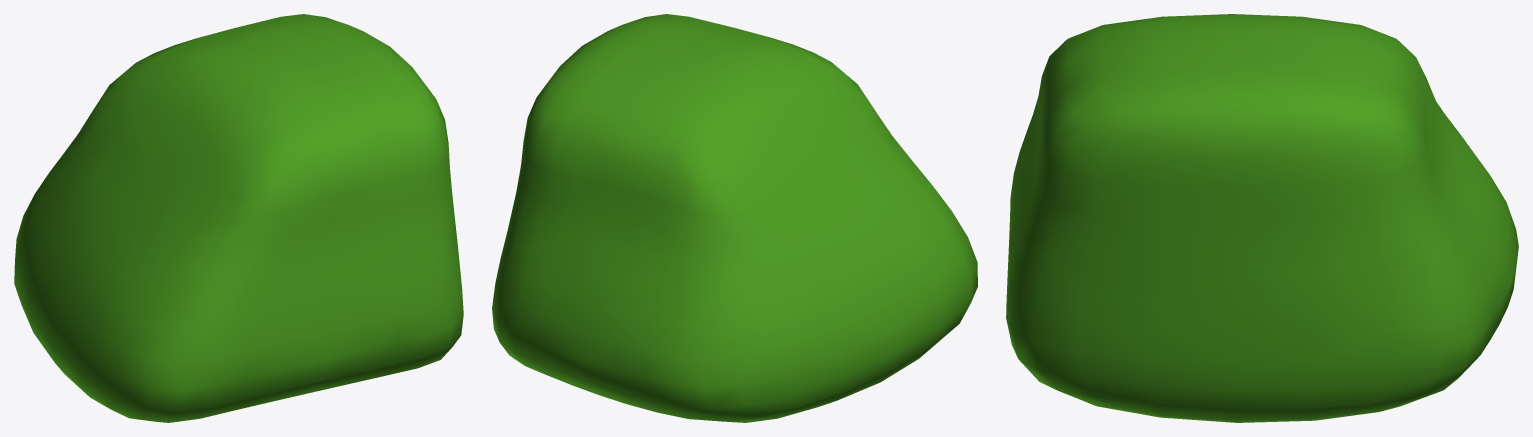
Rendered from Bush 1.fbx.
3 views of the same model, side by side, from view 1: azimuth 30°, elevation 25°; view 2: azimuth 150°, elevation 25°; view 3: azimuth 270°, elevation 25° (orthographic). The views are drawn at different scales.
Parts seen in each view (by area): view 1: Cube; view 2: Cube; view 3: Cube.
Boxes of the visible parts, left/top/right/bottom form: Cube: left=14, top=14, right=463, bottom=422; Cube: left=492, top=14, right=977, bottom=422; Cube: left=1006, top=14, right=1518, bottom=422.
Bounding box in the file's own units: 256 × 196 × 273.
